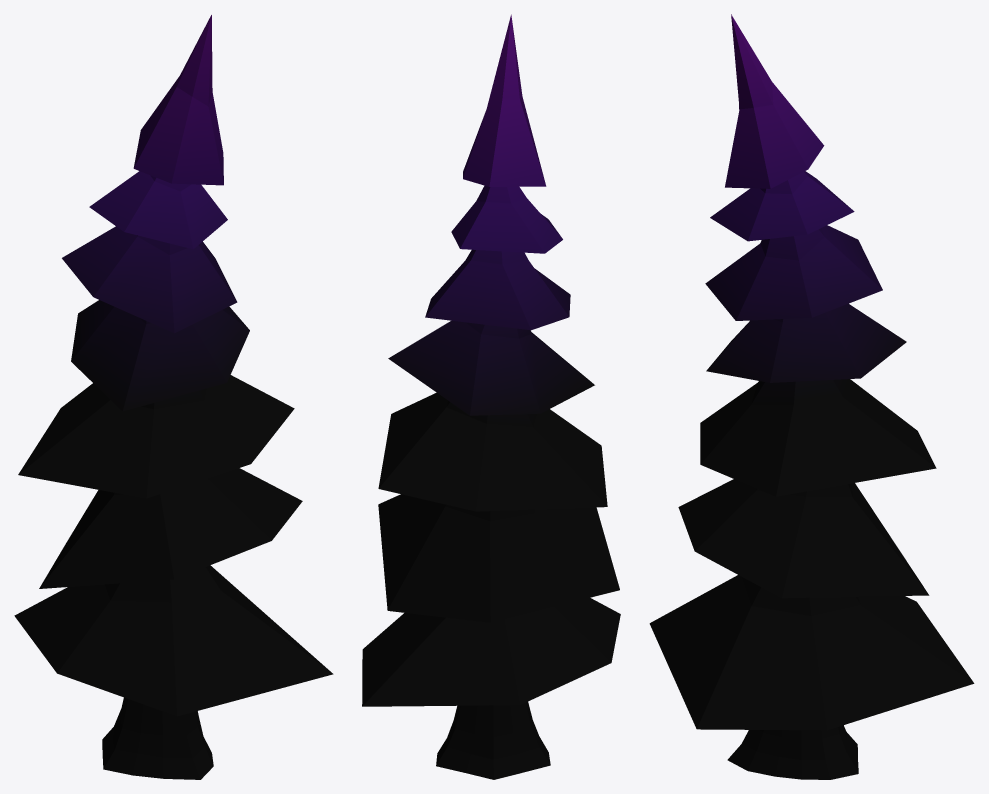
File: P_fir_01.fbx
The picture shows the model from 3 angles, left to right: view 1: azimuth 30°, elevation 25°; view 2: azimuth 150°, elevation 25°; view 3: azimuth 270°, elevation 25°; orthographic projection. The views are drawn at different scales.
Parts seen in each view (by area): view 1: lod1; view 2: lod1; view 3: lod1.
Part boxes in pixels (x1,y1,x2,y2): lod1: (14,15,333,779); lod1: (362,14,620,779); lod1: (649,14,974,779).
Size of what is drawn, in the model's own units: 5.93 by 16.28 by 6.37.
